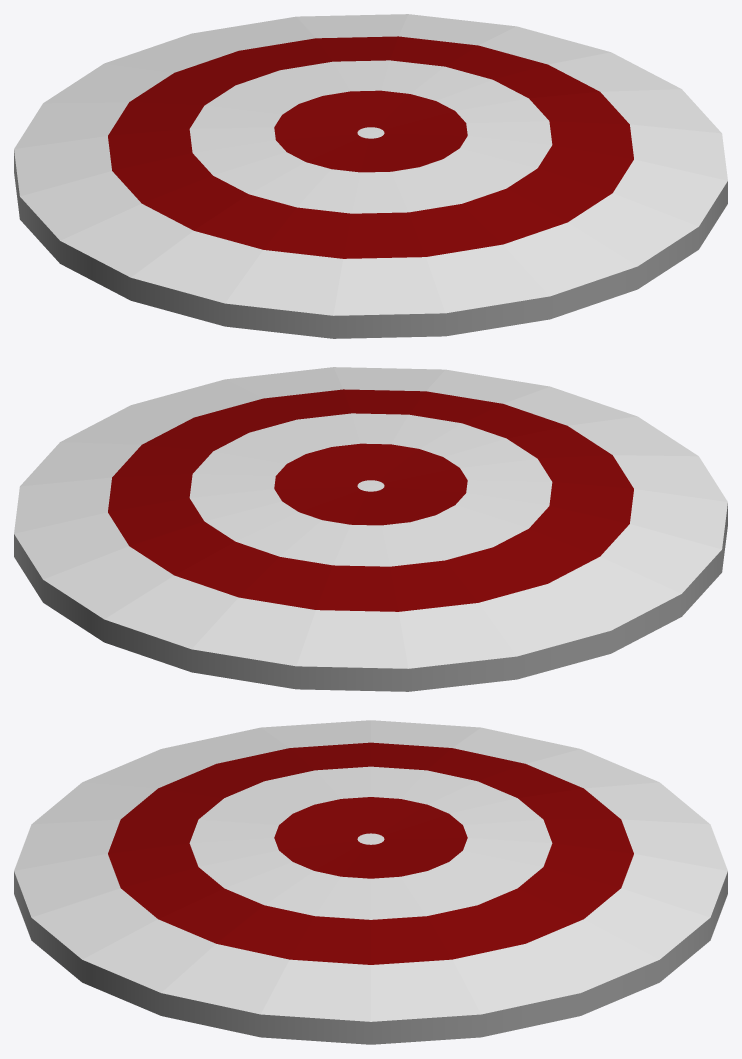
File: frisbee white (1).fbx
3 renders of one model, top to bottom at view 1: azimuth 30°, elevation 25°; view 2: azimuth 150°, elevation 25°; view 3: azimuth 270°, elevation 25°, orthographic.
Parts seen in each view (by area): view 1: pCylinder2; view 2: pCylinder2; view 3: pCylinder2.
Boxes of the visible parts, bbox=[...] form: pCylinder2: bbox=[14, 14, 727, 338]; pCylinder2: bbox=[14, 367, 727, 691]; pCylinder2: bbox=[14, 720, 727, 1044].
Bounding box in the file's own units: 2 × 0.1734 × 2.
